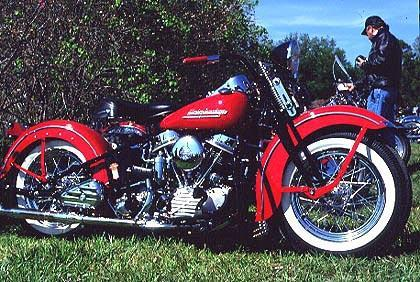motorcycle: (1, 43, 419, 259)
